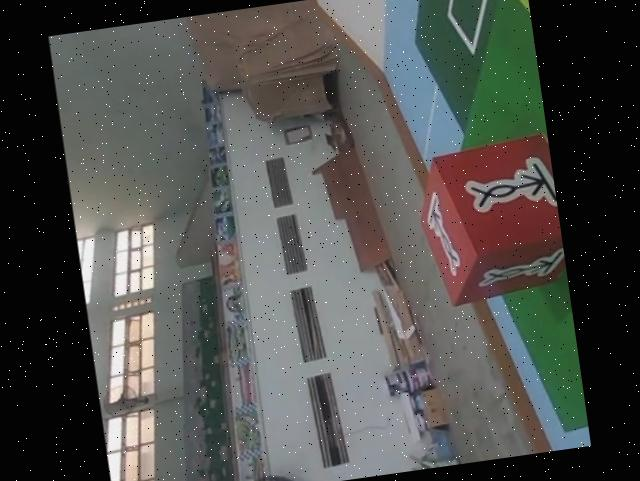R2 Real: (405, 129, 571, 313)
